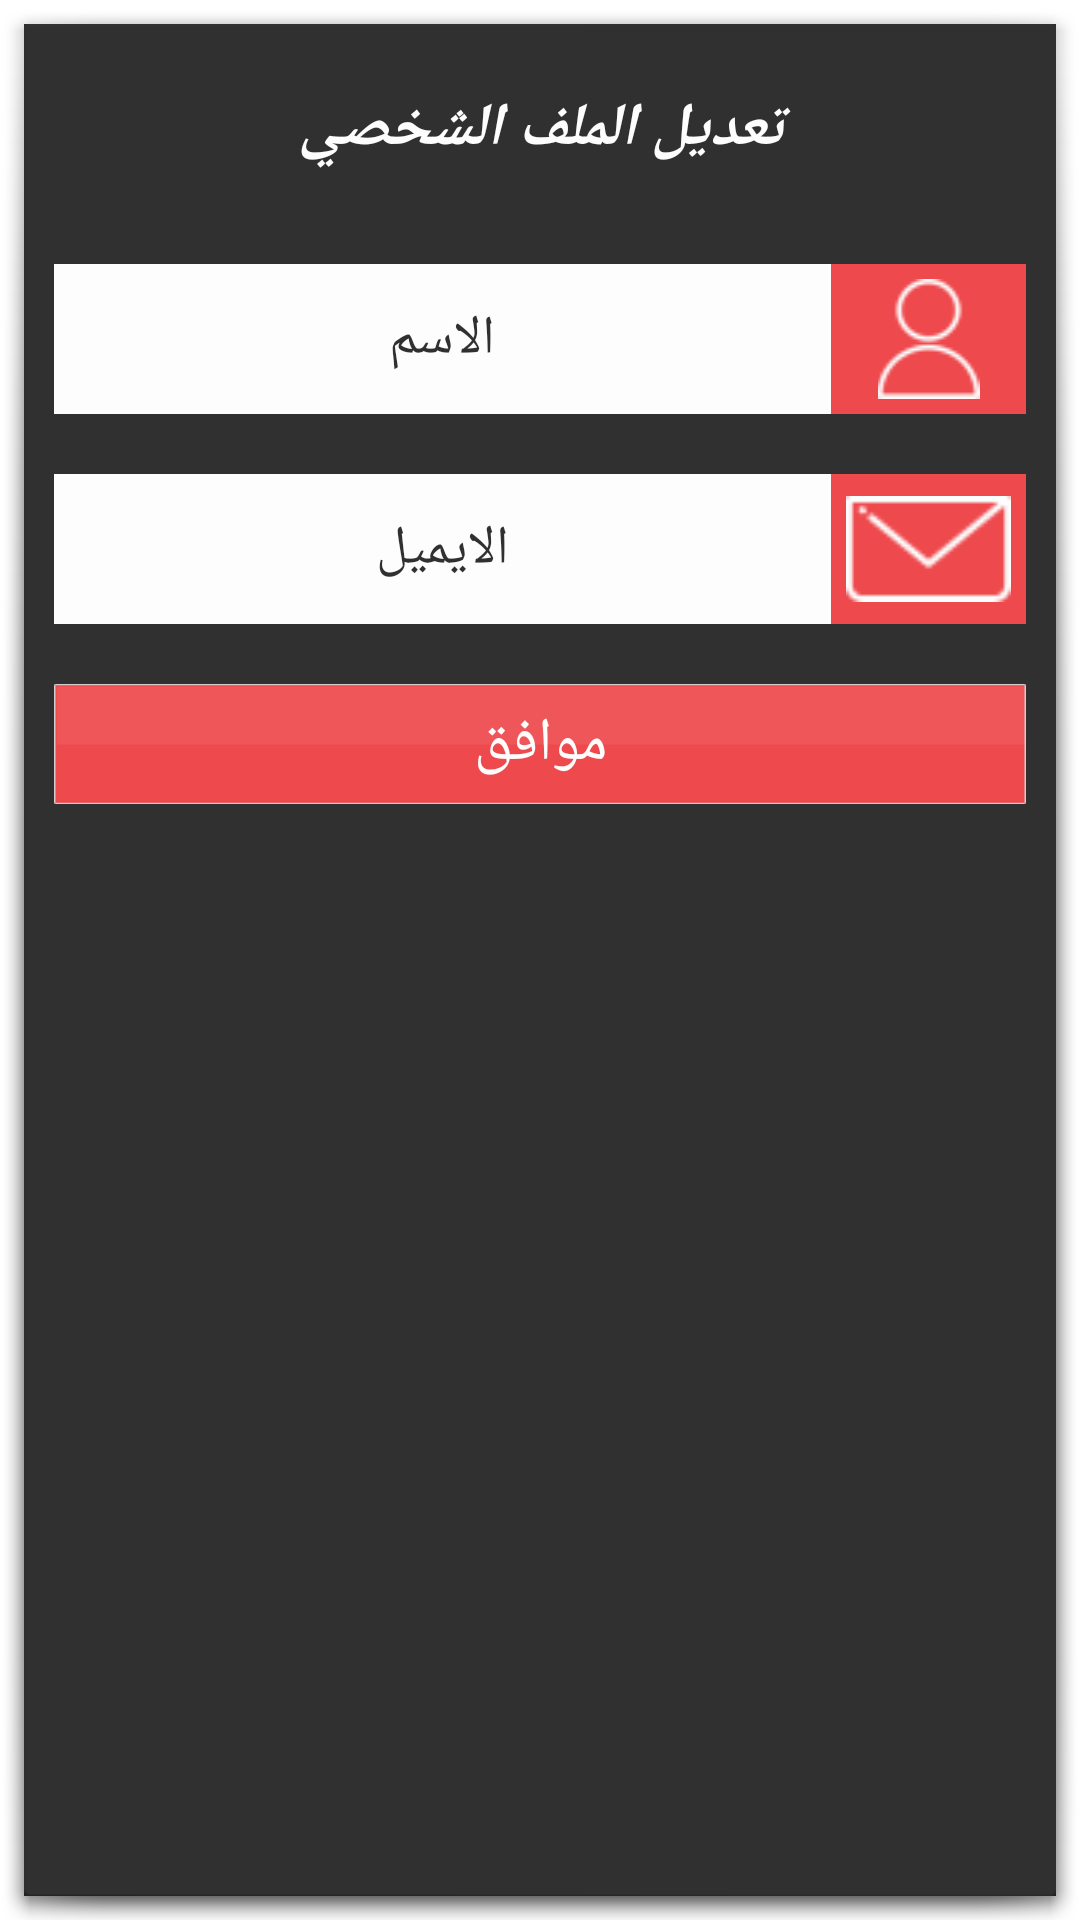

Icons on this 1080×1920 Android screen, each with the point to tap as [x,y]:
feld email: [904,525]
feld user name: [904,315]
